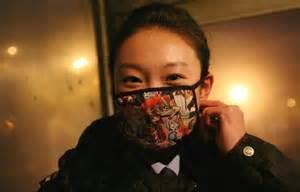OK: (121, 65, 195, 139)
